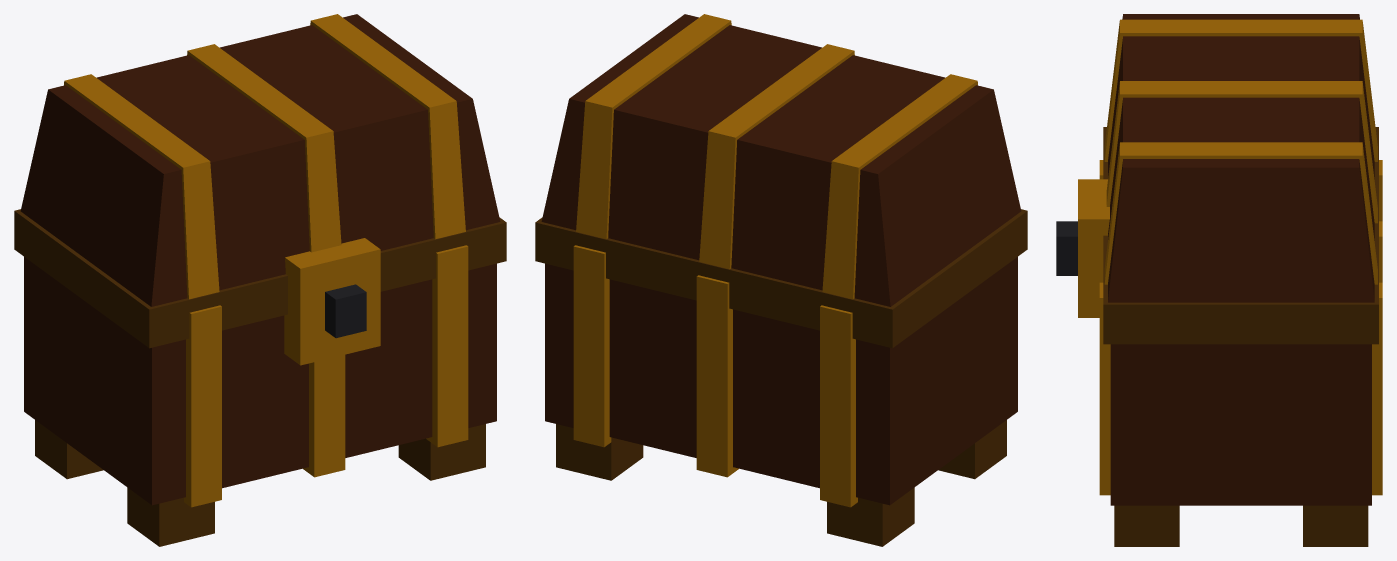
The model's file is Arca_low.fbx.
The picture shows the model from 3 angles, left to right: view 1: azimuth 30°, elevation 25°; view 2: azimuth 150°, elevation 25°; view 3: azimuth 270°, elevation 25°; orthographic projection. The views are drawn at different scales.
Parts seen in each view (by area): view 1: Arca_low; view 2: Arca_low; view 3: Arca_low.
Part boxes in pixels (<box>): Arca_low: <box>14,14,506,546</box>; Arca_low: <box>535,14,1027,546</box>; Arca_low: <box>1056,14,1382,546</box>.
Bounding box in the file's own units: 58 × 57.5 × 45.
